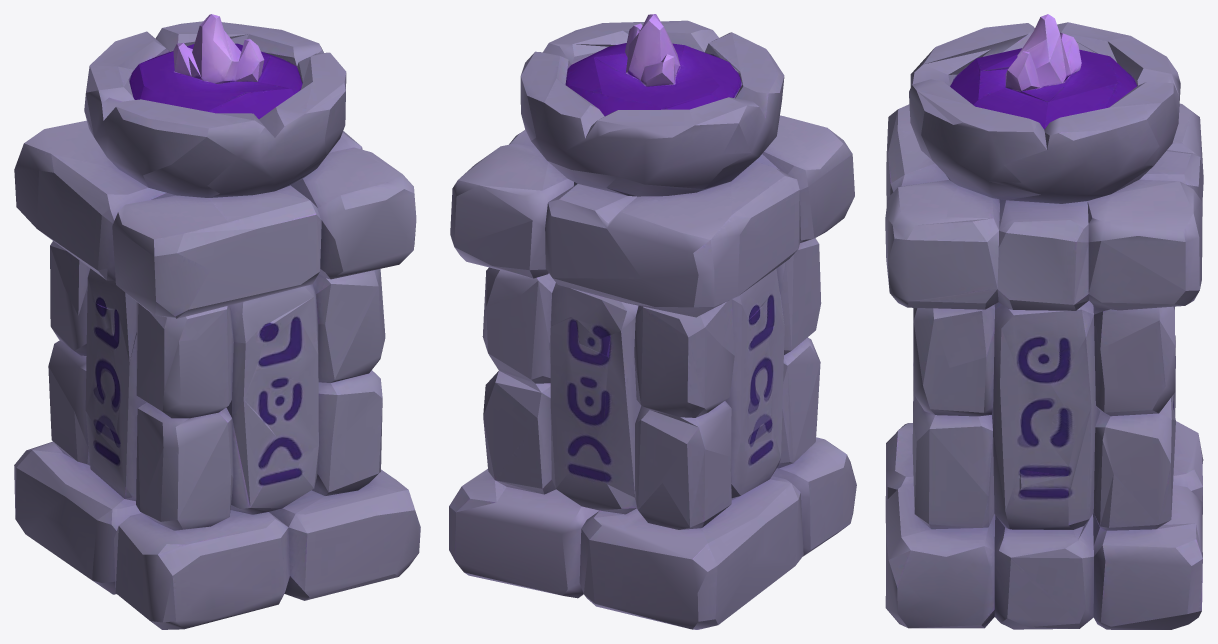
The model's file is shrine_pillar.glb.
3 views of the same model, side by side, from view 1: azimuth 30°, elevation 25°; view 2: azimuth 150°, elevation 25°; view 3: azimuth 270°, elevation 25° (orthographic). The views are drawn at different scales.
Bounding box in the file's own units: 0.9504 × 1.83 × 0.9518.
1 material, 1 textured.
